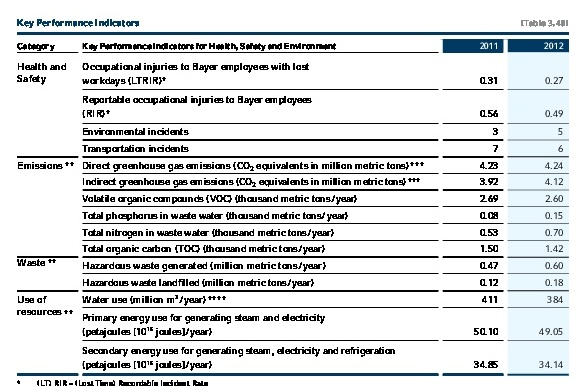table: (0, 0, 584, 386)
